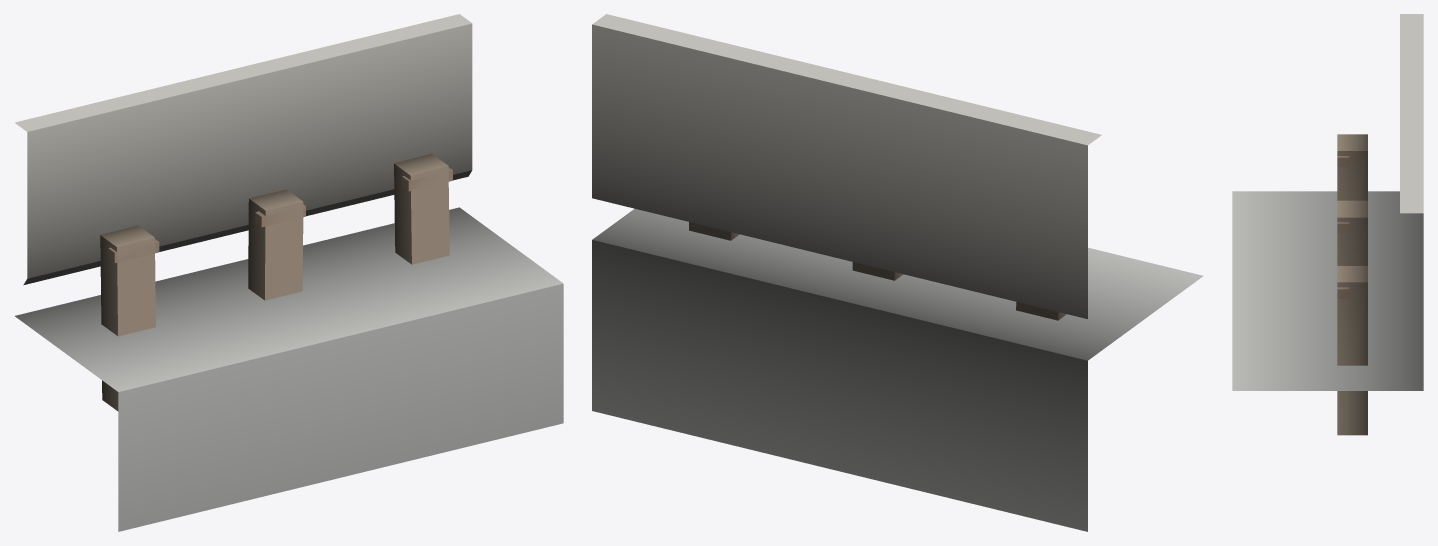
The model's file is quay_edge.lod1.glb.
3 views of the same model, side by side, from view 1: azimuth 30°, elevation 25°; view 2: azimuth 150°, elevation 25°; view 3: azimuth 270°, elevation 25° (orthographic). The views are drawn at different scales.
Visible parts, largest first — view 1: props_quay_edge.lod1; view 2: props_quay_edge.lod1; view 3: props_quay_edge.lod1.
Boxes of the visible parts, <box> form: props_quay_edge.lod1: <box>15,14,563,531</box>; props_quay_edge.lod1: <box>592,14,1203,531</box>; props_quay_edge.lod1: <box>1232,14,1423,435</box>.
Size of the model in its own units: 4 by 2.98 by 1.62.
